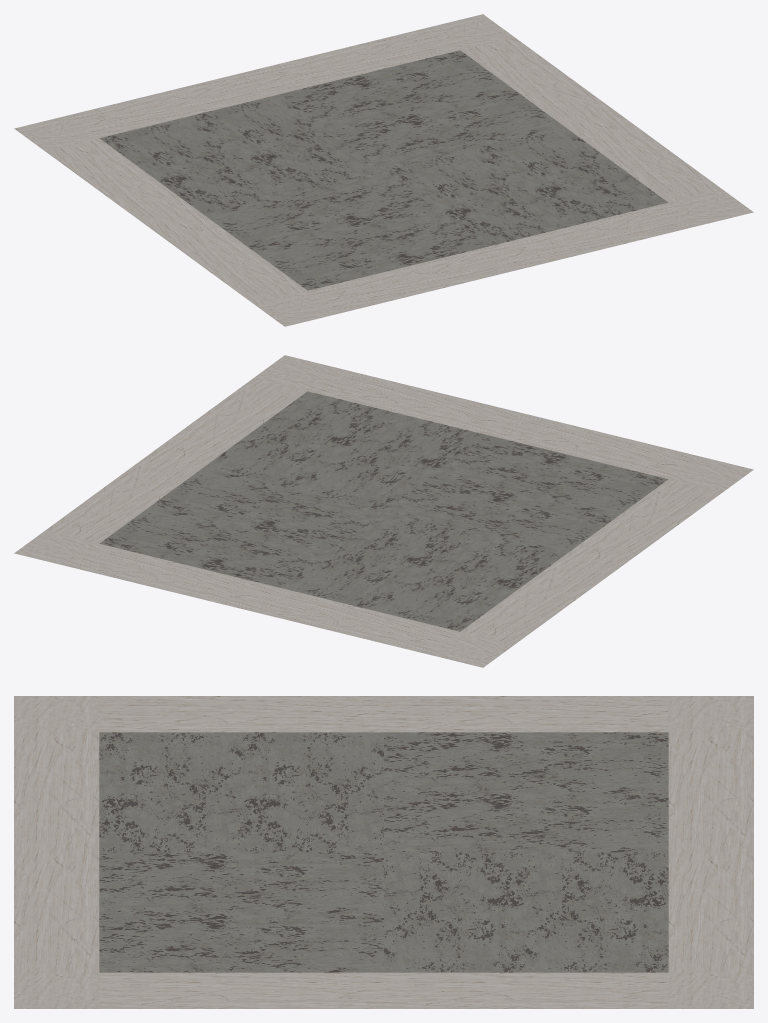
The model's file is PisoPuente.obj.
The picture shows the model from 3 angles, top to bottom: view 1: azimuth 30°, elevation 25°; view 2: azimuth 150°, elevation 25°; view 3: azimuth 270°, elevation 25°; orthographic projection. The views are drawn at different scales.
Visible parts, largest first — view 1: Plane006, Plane004, Plane007, Plane003, Plane008, Plane002, Plane005, Plane001, Plane009, Plane019, Plane017, Plane018 (+8 smaller); view 2: Plane004, Plane007, Plane006, Plane003, Plane008, Plane005, Plane002, Plane001, Plane017, Plane018, Plane009, Plane019 (+8 smaller); view 3: Plane002, Plane005, Plane008, Plane001, Plane004, Plane007, Plane003, Plane006, Plane012, Plane020, Plane021, Plane022 (+8 smaller).
Part boxes in pixels (bbox=[...]): Plane006: bbox=[204, 170, 435, 252]; Plane004: bbox=[280, 50, 511, 132]; Plane007: bbox=[256, 208, 487, 290]; Plane003: bbox=[332, 88, 563, 170]; Plane008: bbox=[99, 116, 293, 214]; Plane002: bbox=[474, 126, 667, 224]; Plane005: bbox=[190, 94, 383, 192]; Plane001: bbox=[384, 148, 577, 246]; Plane009: bbox=[68, 71, 279, 137]; Plane019: bbox=[488, 203, 699, 269]; Plane017: bbox=[249, 27, 459, 93]; Plane018: bbox=[308, 247, 518, 313]; Plane004: bbox=[99, 505, 331, 587]; Plane007: bbox=[436, 435, 668, 517]; Plane006: bbox=[384, 473, 615, 555]; Plane003: bbox=[152, 467, 383, 549]; Plane008: bbox=[370, 533, 563, 631]; Plane005: bbox=[280, 511, 473, 609]; Plane002: bbox=[204, 391, 397, 489]; Plane001: bbox=[294, 413, 487, 511]; Plane017: bbox=[68, 544, 279, 610]; Plane018: bbox=[488, 412, 699, 478]; Plane009: bbox=[249, 588, 459, 654]; Plane019: bbox=[308, 368, 518, 434]; Plane002: bbox=[99, 912, 383, 972]; Plane005: bbox=[384, 792, 668, 852]; Plane008: bbox=[384, 732, 668, 792]; Plane001: bbox=[99, 852, 383, 912]; Plane004: bbox=[526, 852, 668, 972]; Plane007: bbox=[99, 732, 241, 852]; Plane003: bbox=[384, 852, 526, 972]; Plane006: bbox=[241, 732, 383, 852]; Plane012: bbox=[384, 972, 668, 1008]; Plane020: bbox=[99, 972, 383, 1008]; Plane021: bbox=[384, 696, 668, 732]; Plane022: bbox=[99, 696, 383, 732].
Size of the model in its own units: 2.6 by 0 by 2.6.
Materials: 2 (2 with a texture image).
